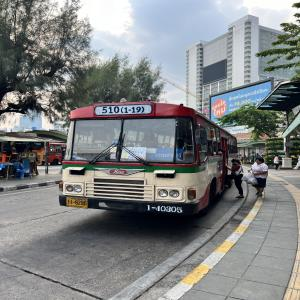BMTA-bus: (59, 102, 241, 218)
Bus Line Number: (95, 104, 152, 116)
Bus Side Number: (144, 202, 186, 215)
Destination Sign: (146, 147, 183, 160)
